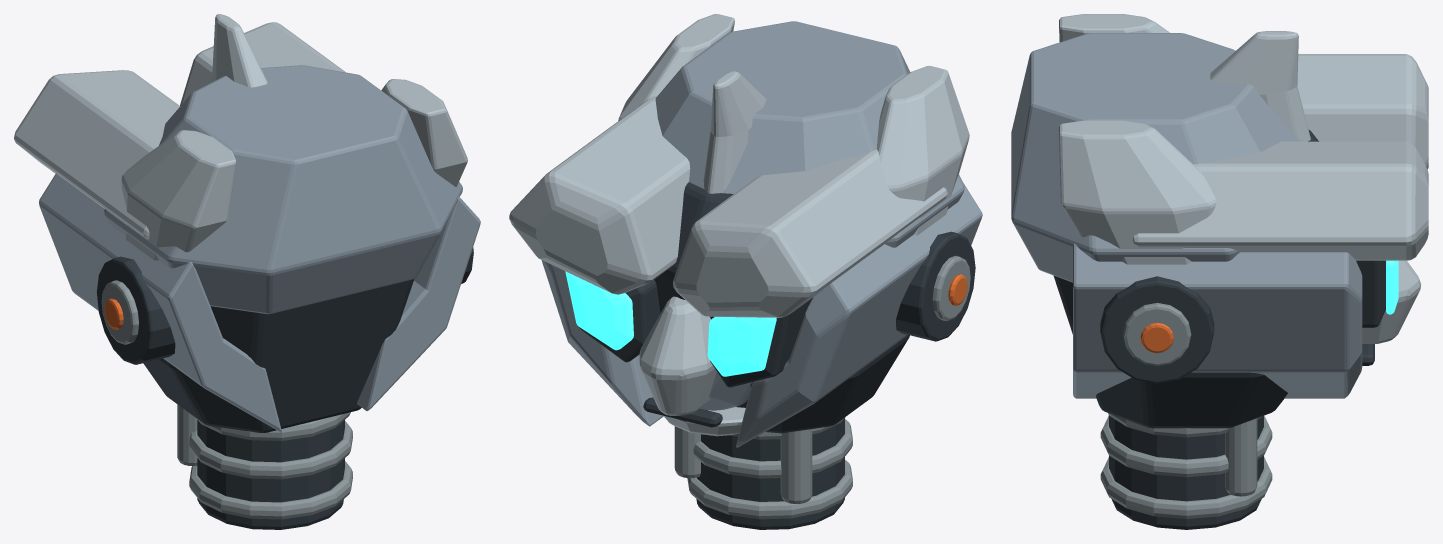
3 renders of one model, left to right at view 1: azimuth 30°, elevation 25°; view 2: azimuth 150°, elevation 25°; view 3: azimuth 270°, elevation 25°, orthographic. The views are drawn at different scales.
Parts seen in each view (by area): view 1: Head_hero; view 2: Head_hero; view 3: Head_hero.
Part boxes in pixels (<box>): Head_hero: <box>14,14,480,529</box>; Head_hero: <box>509,14,982,529</box>; Head_hero: <box>1011,14,1428,529</box>.
Bounding box in the file's own units: 0.504 × 0.6212 × 0.5032.
